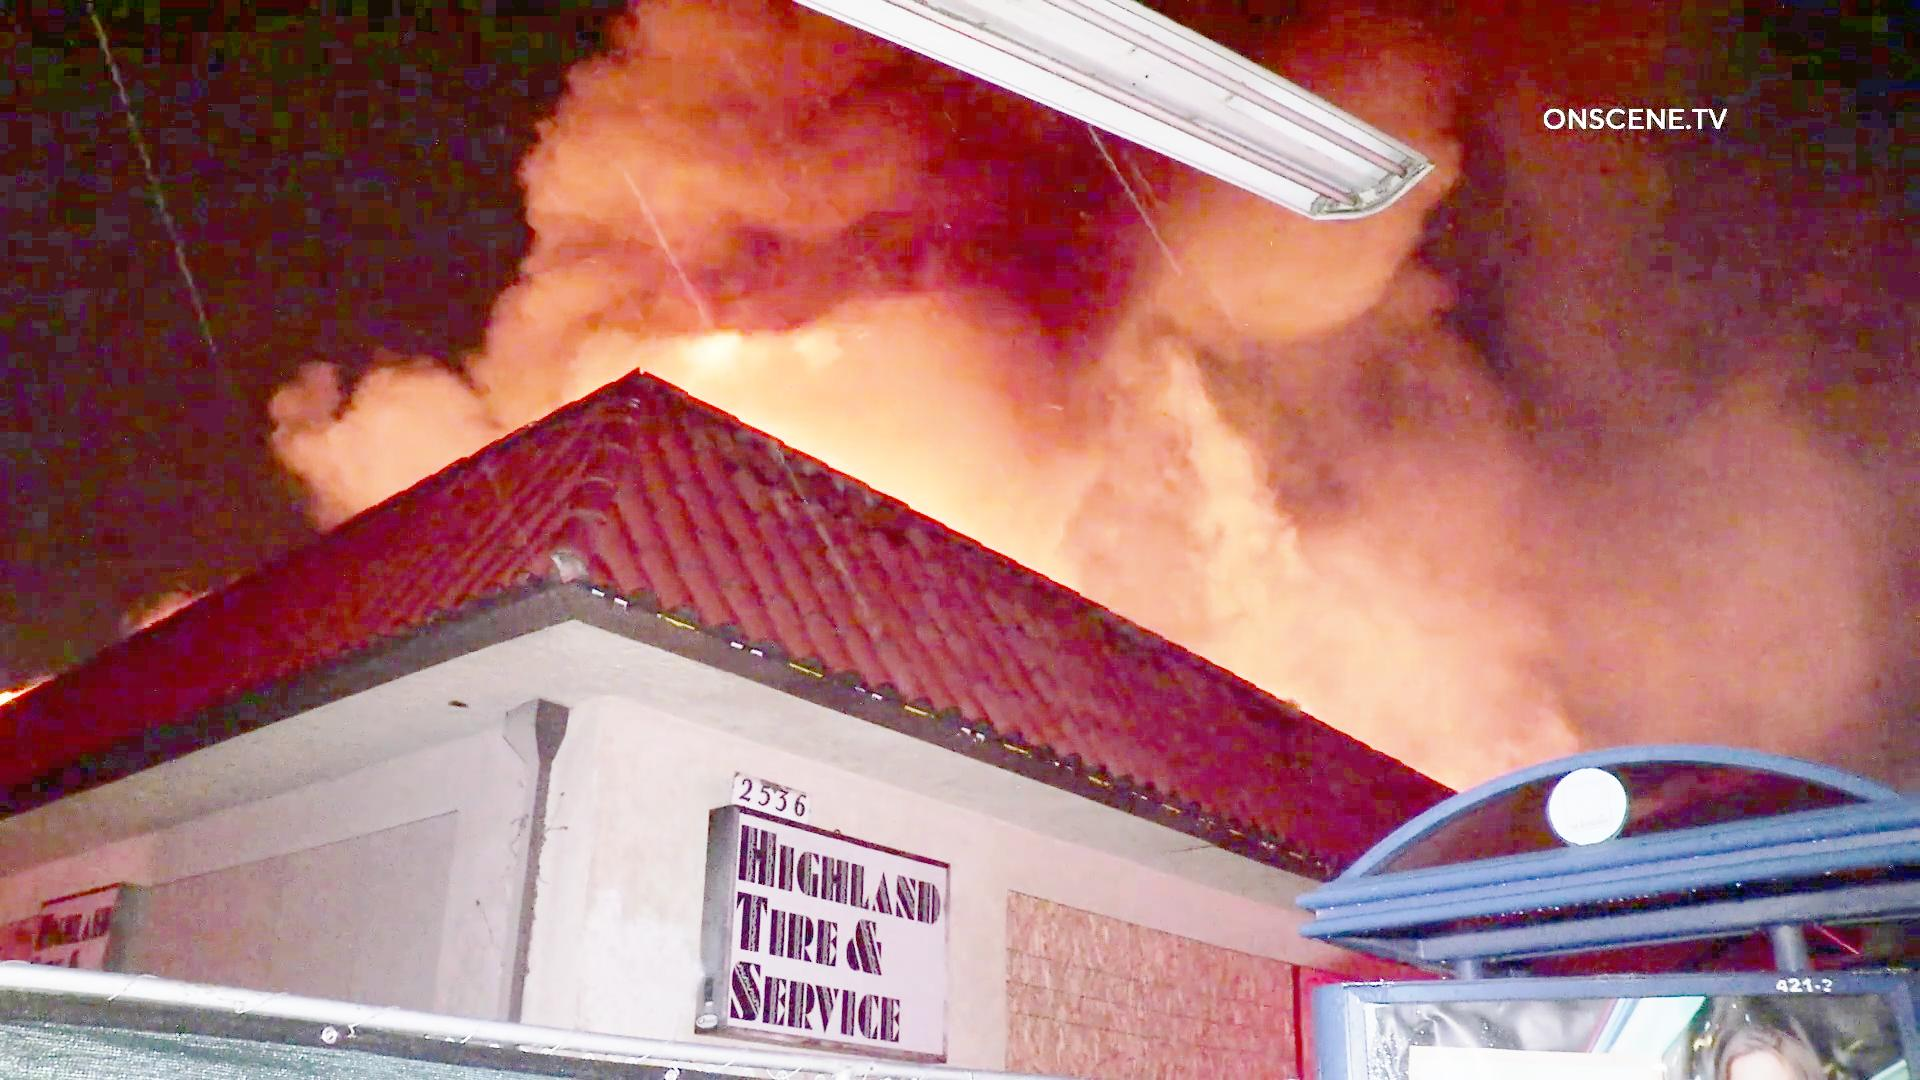smoke: (1126, 368, 1775, 665)
